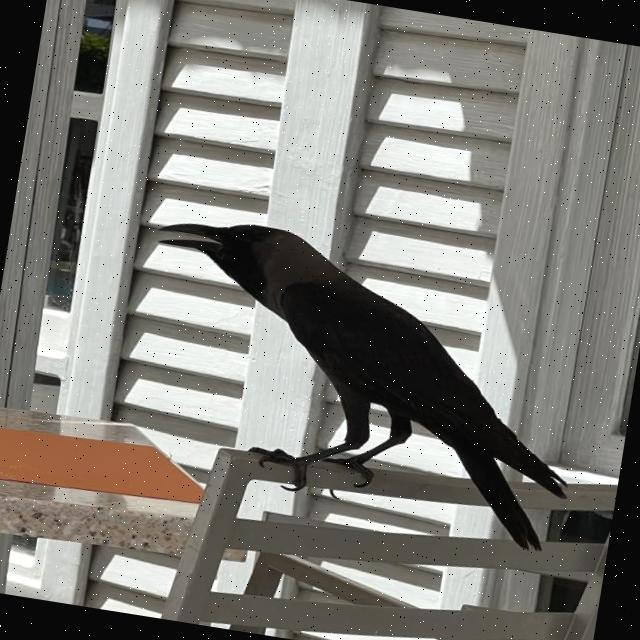crow: (101, 200, 612, 567)
